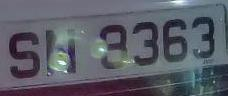3: (129, 17, 162, 69), (188, 12, 219, 63)
6: (159, 15, 192, 66)
8: (88, 19, 132, 75)
N: (42, 24, 80, 80)
S: (4, 26, 44, 83)
